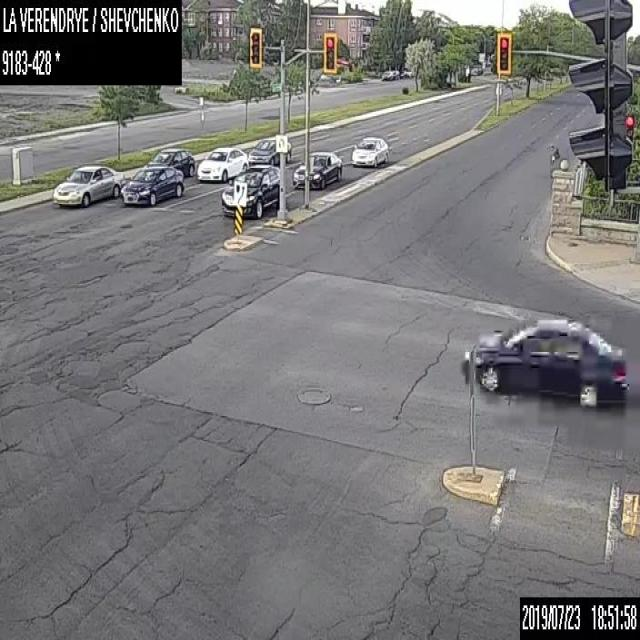vehicle: (471, 315, 627, 409), (221, 164, 280, 218), (52, 165, 124, 208), (120, 164, 184, 206), (292, 148, 343, 188), (196, 146, 248, 180), (143, 146, 194, 176), (350, 133, 389, 168), (248, 136, 290, 165), (382, 69, 392, 80), (391, 68, 398, 79)
